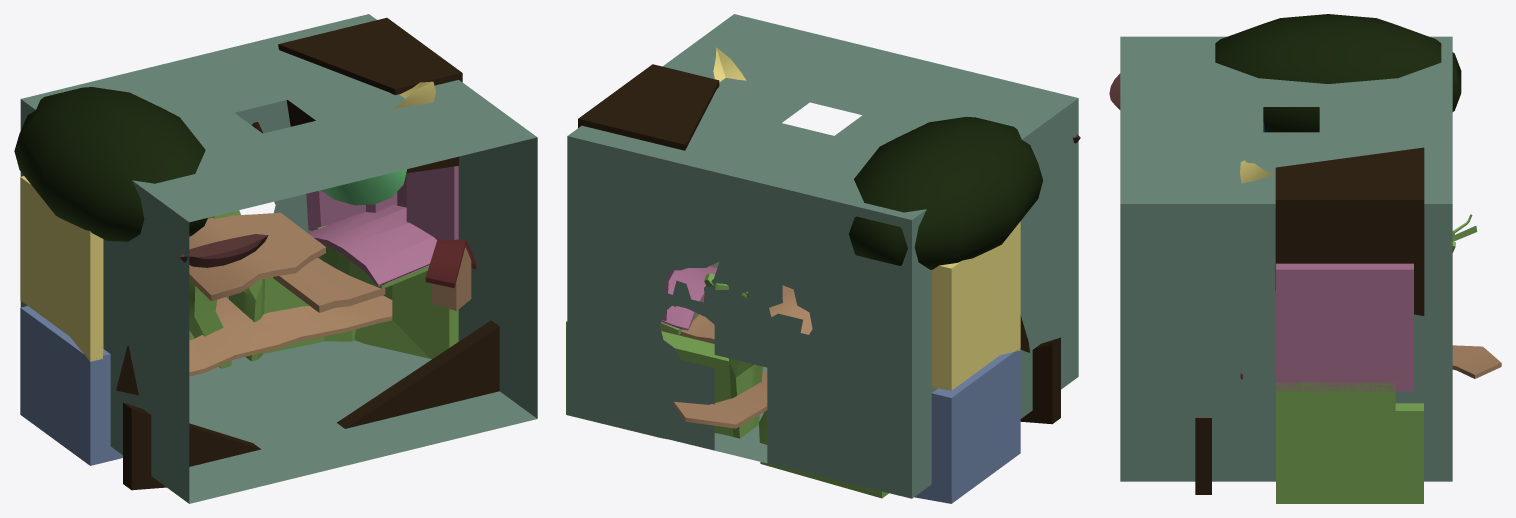
The model's file is Whitebox For VFX tests in Unity.fbx.
3 renders of one model, left to right at view 1: azimuth 30°, elevation 25°; view 2: azimuth 150°, elevation 25°; view 3: azimuth 270°, elevation 25°, orthographic.
Parts seen in each view (by area): view 1: BackdropBox, UpperLeftWoodGlobe, ForegroundFence, LowerLeftHouse, UpperLeftHouse, LowerRightHouse, UpperRightWoodBox, MainPlankWalkway, TopCenterPlankWalkway, RoundedRoof, UpperRightHouse, RightPlankWalkway (+7 smaller); view 2: BackdropBox, UpperLeftWoodGlobe, UpperLeftHouse, LowerLeftHouse, UpperRightWoodBox, LowerRightHouse, ForegroundFence, MainPlankWalkway, RoundedRoof, TopCenterPlankWalkway, RightPlankWalkway, Hammok_4; view 3: BackdropBox, LowerRightHouse, UpperRightHouse, UpperRightWoodBox, UpperLeftWoodGlobe, ForegroundFence, MainPlankWalkway, Hammok_4.
Boxes of the visible parts, <box> form: BackdropBox: <box>20,14,537,503</box>; UpperLeftWoodGlobe: <box>14,87,207,241</box>; ForegroundFence: <box>123,320,499,490</box>; LowerLeftHouse: <box>20,306,122,465</box>; UpperLeftHouse: <box>20,176,103,361</box>; LowerRightHouse: <box>189,210,458,368</box>; UpperRightWoodBox: <box>278,17,462,173</box>; MainPlankWalkway: <box>189,295,392,376</box>; TopCenterPlankWalkway: <box>189,212,325,301</box>; RoundedRoof: <box>307,205,436,286</box>; UpperRightHouse: <box>306,166,458,240</box>; RightPlankWalkway: <box>273,258,385,312</box>; BackdropBox: <box>567,14,1078,498</box>; UpperLeftWoodGlobe: <box>849,116,1043,269</box>; UpperLeftHouse: <box>931,221,1020,390</box>; LowerLeftHouse: <box>914,348,1020,503</box>; UpperRightWoodBox: <box>578,64,719,150</box>; LowerRightHouse: <box>566,273,888,498</box>; ForegroundFence: <box>1020,337,1060,424</box>; MainPlankWalkway: <box>673,371,767,428</box>; RoundedRoof: <box>661,266,717,330</box>; TopCenterPlankWalkway: <box>704,285,812,334</box>; RightPlankWalkway: <box>661,314,714,343</box>; Hammok_4: <box>713,47,746,82</box>; BackdropBox: <box>1120,36,1452,481</box>; LowerRightHouse: <box>1276,214,1477,503</box>; UpperRightHouse: <box>1276,263,1413,391</box>; UpperRightWoodBox: <box>1275,147,1424,315</box>; UpperLeftWoodGlobe: <box>1215,14,1461,132</box>; ForegroundFence: <box>1195,418,1211,494</box>; MainPlankWalkway: <box>1452,345,1501,378</box>; Hammok_4: <box>1240,160,1274,183</box>.
Bounding box in the file's own units: 14.55 × 11.69 × 12.33.
